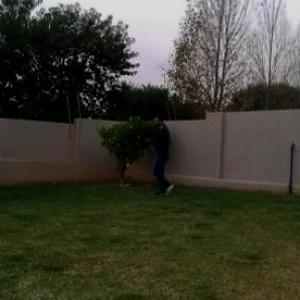follow: (151, 112, 173, 200)
